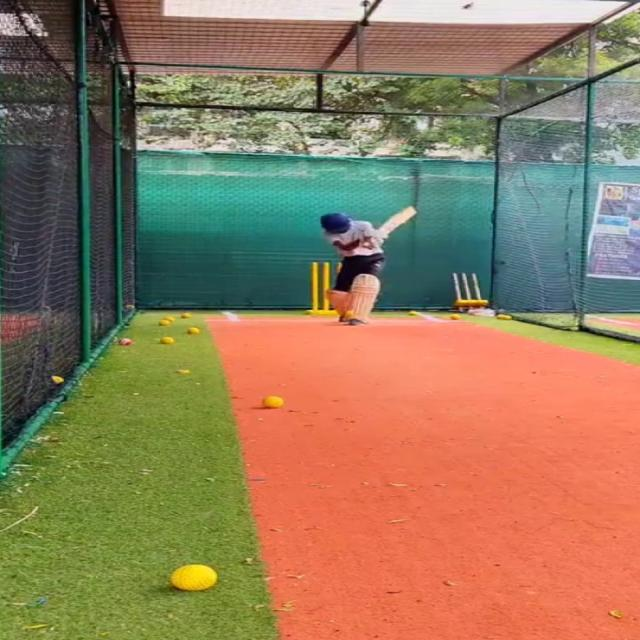ball: (168, 565, 220, 591), (256, 394, 286, 410), (115, 336, 134, 347), (153, 317, 172, 326), (158, 335, 176, 344), (185, 327, 200, 336), (448, 312, 460, 320), (180, 313, 191, 319)
stump: (307, 262, 331, 316)
